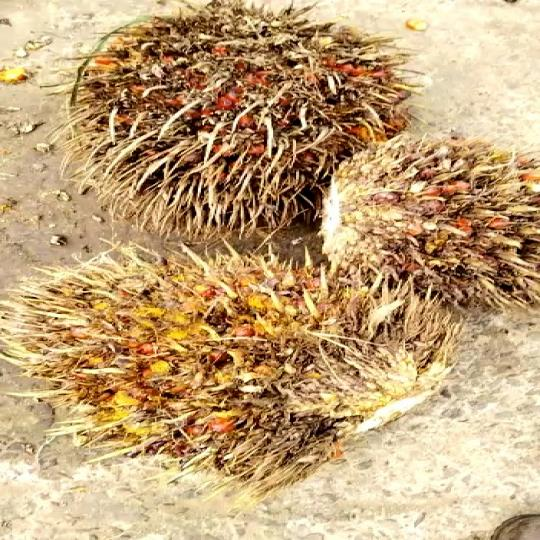terlalu masak: (0, 238, 460, 497), (79, 0, 439, 247), (326, 119, 540, 313)
